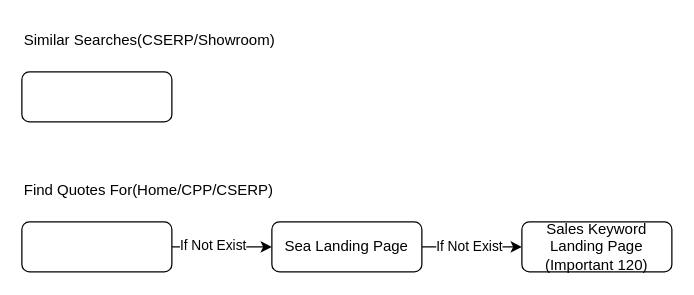
This 694x295 diagram has some shape labels left out. Here are the shapes that lost their labels. From the top down, the centre of each, then its label:
the point at 96,96: Relate Keyword Landing Page
the point at 96,246: Sales Keyword Landing Page (TOP 500)
